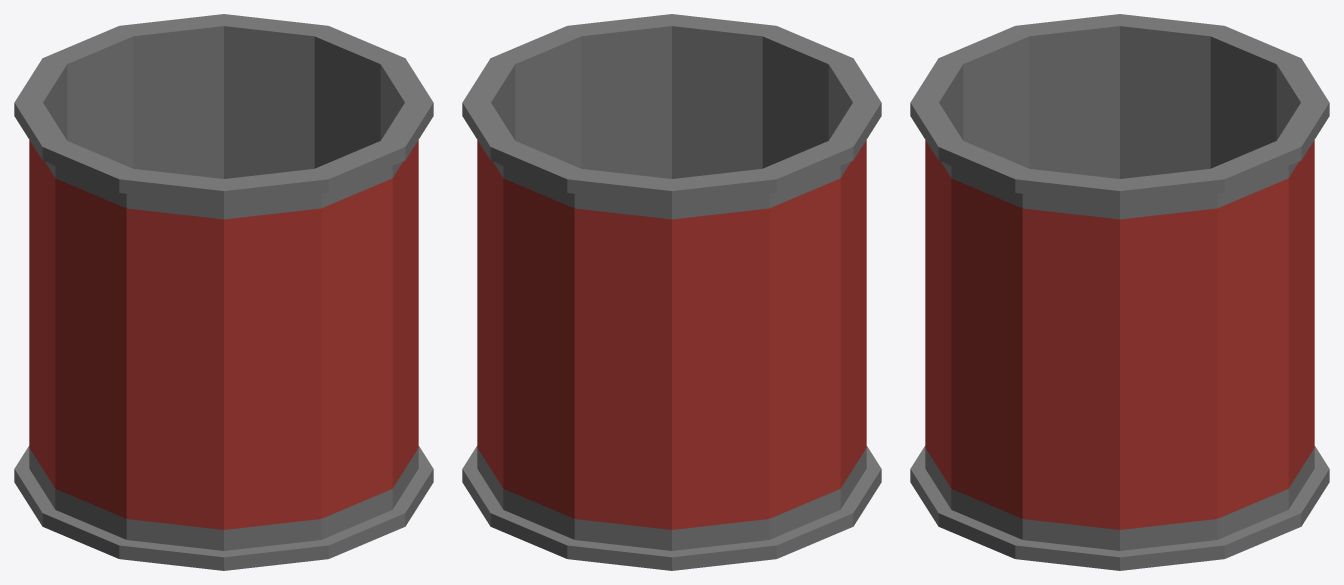
3 views of the same model, side by side, from view 1: azimuth 30°, elevation 25°; view 2: azimuth 150°, elevation 25°; view 3: azimuth 270°, elevation 25° (orthographic).
Visible parts, largest first — view 1: 柱体; view 2: 柱体; view 3: 柱体.
Part boxes in pixels (x1=…): 柱体: x1=14, y1=14, x2=433, y2=570; 柱体: x1=462, y1=14, x2=881, y2=570; 柱体: x1=910, y1=14, x2=1329, y2=570.
Bounding box in the file's own units: 200 × 200 × 200.
